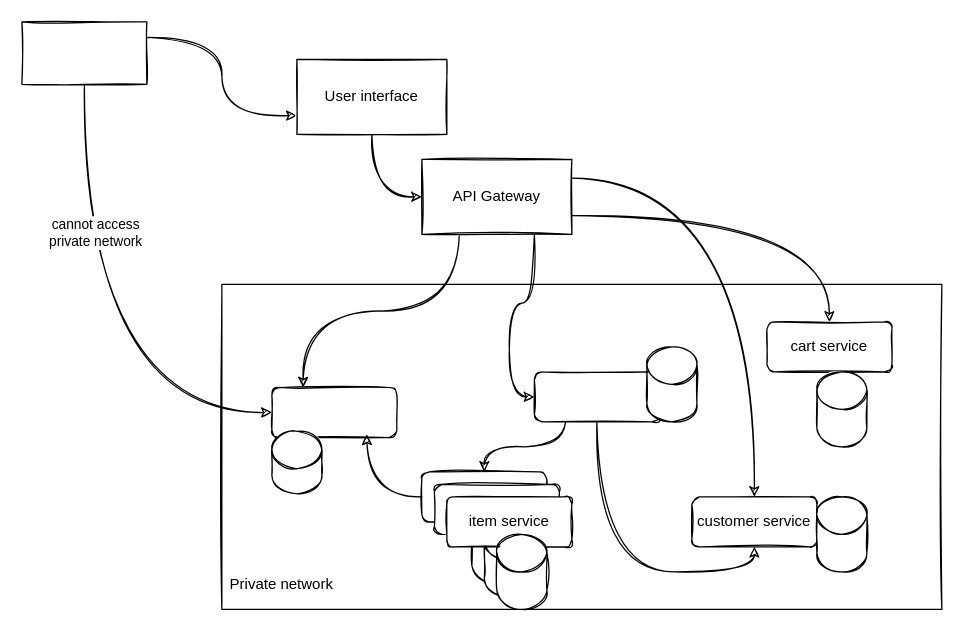
Image size: 964x631. Some labels were removed from this diagram. The box of each missing label's shape, as (x1, y1, x2, y2) in pixels:
Client: (21, 21, 147, 84)
order service: (533, 371, 659, 422)
product service: (271, 386, 397, 438)
